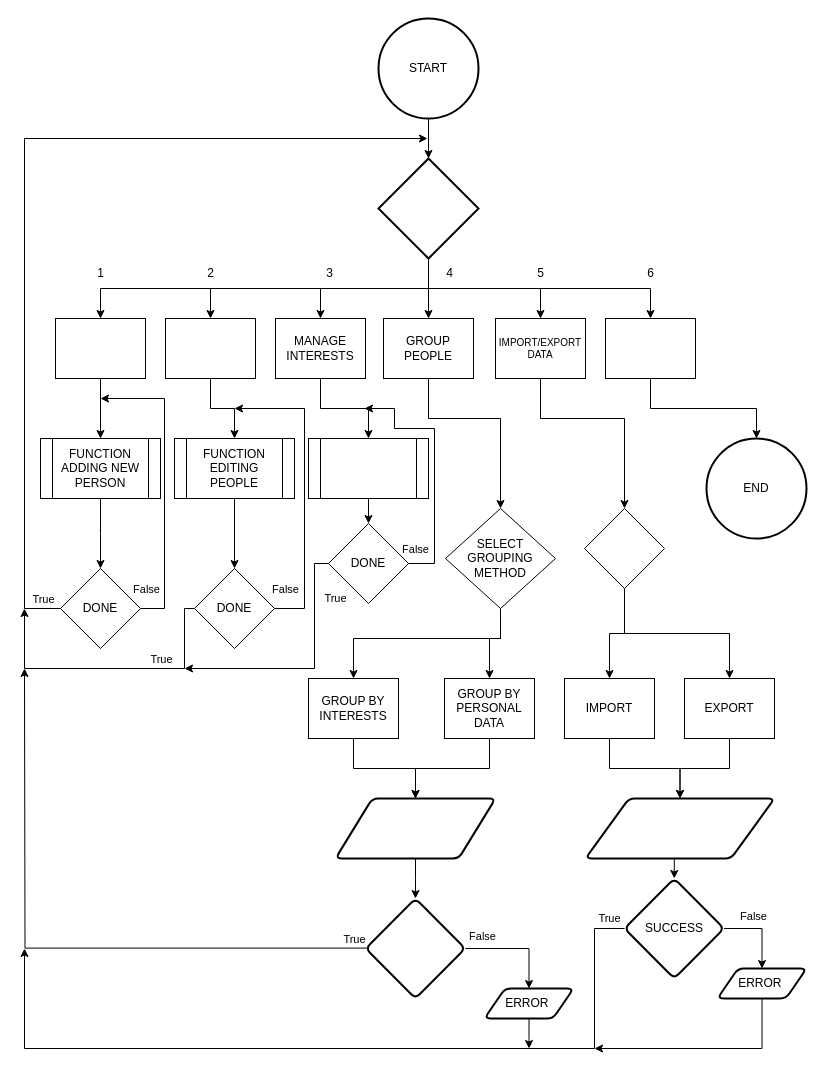
This 825x1074 diagram has some shape labels left out. The centre of each missing label's shape, as x and y in pixels:
"ADD NEW PERSON" belongs at point (100, 348).
"EDIT DATA" belongs at point (210, 348).
"END TASK" belongs at point (650, 348).
"FUNCTION ADDING OR REMOVING INTERESTS" belongs at point (368, 468).
"RECORDS FOUND" belongs at point (415, 948).
"SELECT FUNCTION" belongs at point (428, 208).
"SELECT LOCALIZATION" belongs at point (679, 828).
"SELECT OPTION" belongs at point (624, 548).
"USER SELECTING" belongs at point (415, 828).
